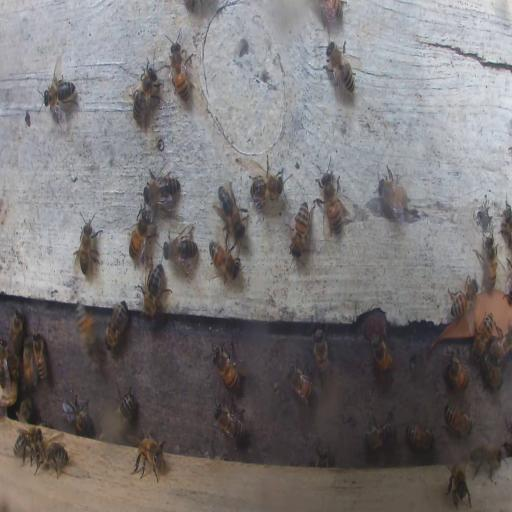bee: (73, 208, 103, 284), (129, 60, 161, 128), (378, 160, 411, 223), (213, 184, 247, 242), (38, 65, 79, 112), (248, 158, 284, 211), (324, 39, 357, 96), (318, 160, 342, 236), (130, 433, 166, 482), (144, 168, 182, 212), (140, 262, 170, 316), (468, 438, 504, 483), (164, 224, 198, 268), (169, 37, 192, 101), (210, 342, 241, 388), (364, 410, 396, 454), (128, 208, 152, 264), (213, 402, 245, 443), (34, 440, 70, 476), (471, 310, 496, 360), (104, 300, 129, 350), (75, 301, 97, 356), (478, 235, 498, 295), (208, 242, 240, 279), (286, 362, 314, 404), (289, 201, 310, 256), (448, 278, 476, 318), (14, 425, 42, 465), (446, 461, 469, 508), (444, 352, 470, 391), (312, 328, 330, 382), (369, 334, 393, 374), (64, 398, 91, 432), (443, 405, 472, 436), (115, 383, 135, 427), (405, 424, 436, 451), (2, 344, 15, 408), (10, 306, 25, 354), (21, 339, 35, 390), (32, 331, 46, 381), (320, 0, 346, 24), (491, 329, 511, 360), (483, 358, 502, 388), (502, 201, 512, 244), (19, 398, 34, 422), (315, 446, 329, 468)
